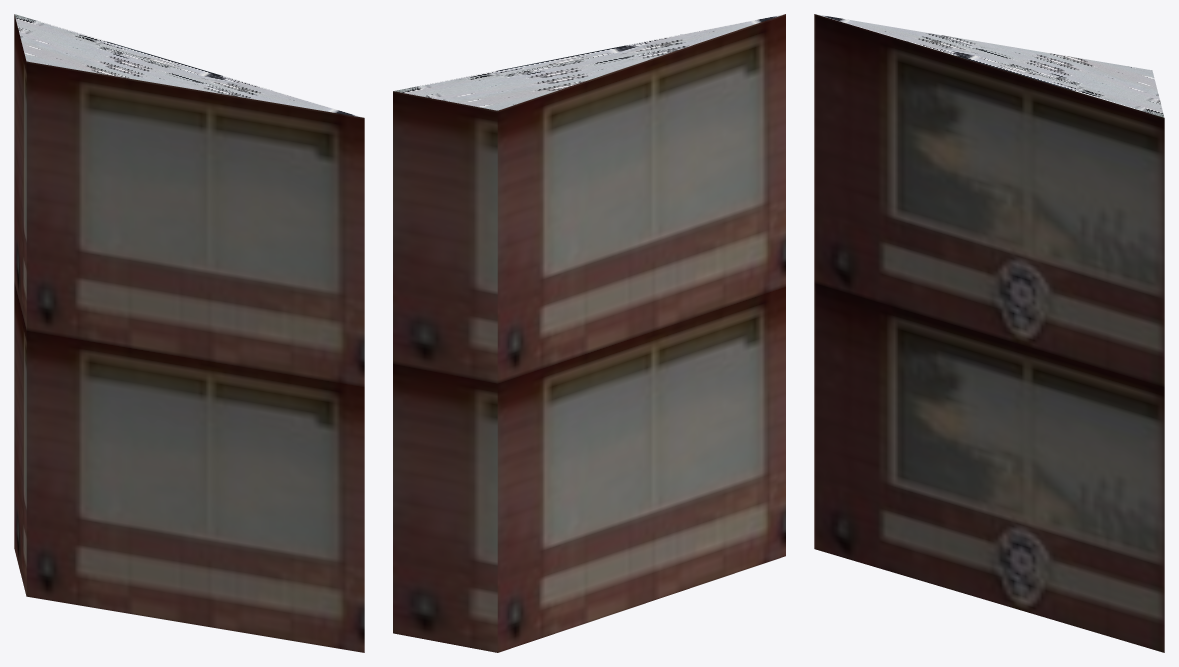
Rendered from ResTex__3627.fbx.
3 views of the same model, side by side, from view 1: azimuth 90°, elevation 25°; view 2: azimuth 150°, elevation 25°; view 3: azimuth 270°, elevation 25° (orthographic).
Parts seen in each view (by area): view 1: CityEngineMaterial_13_m, CityEngineMaterial_8_m; view 2: CityEngineMaterial_13_m, CityEngineMaterial_8_m; view 3: CityEngineMaterial_13_m, CityEngineMaterial_8_m.
Part boxes in pixels (x1=…): CityEngineMaterial_13_m: x1=14, y1=14, x2=364, y2=652; CityEngineMaterial_8_m: x1=14, y1=14, x2=362, y2=117; CityEngineMaterial_13_m: x1=393, y1=14, x2=785, y2=652; CityEngineMaterial_8_m: x1=393, y1=14, x2=783, y2=110; CityEngineMaterial_13_m: x1=814, y1=14, x2=1164, y2=652; CityEngineMaterial_8_m: x1=816, y1=14, x2=1164, y2=117.
Bounding box in the file's own units: 2.5 × 6 × 3.56.
2 materials, 2 textured.
